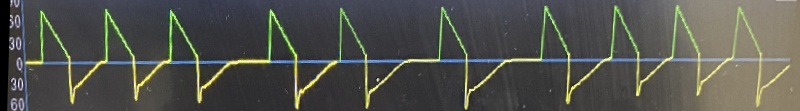normal_flow: (24, 0, 776, 111)
